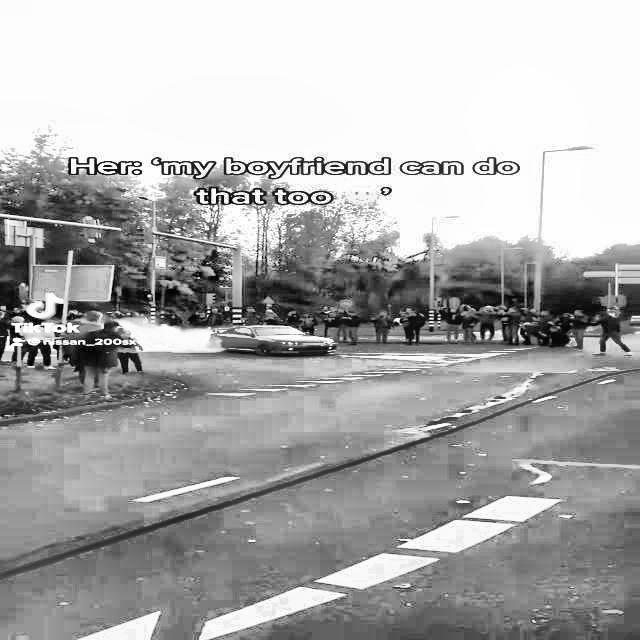carro: (212, 322, 341, 362)
